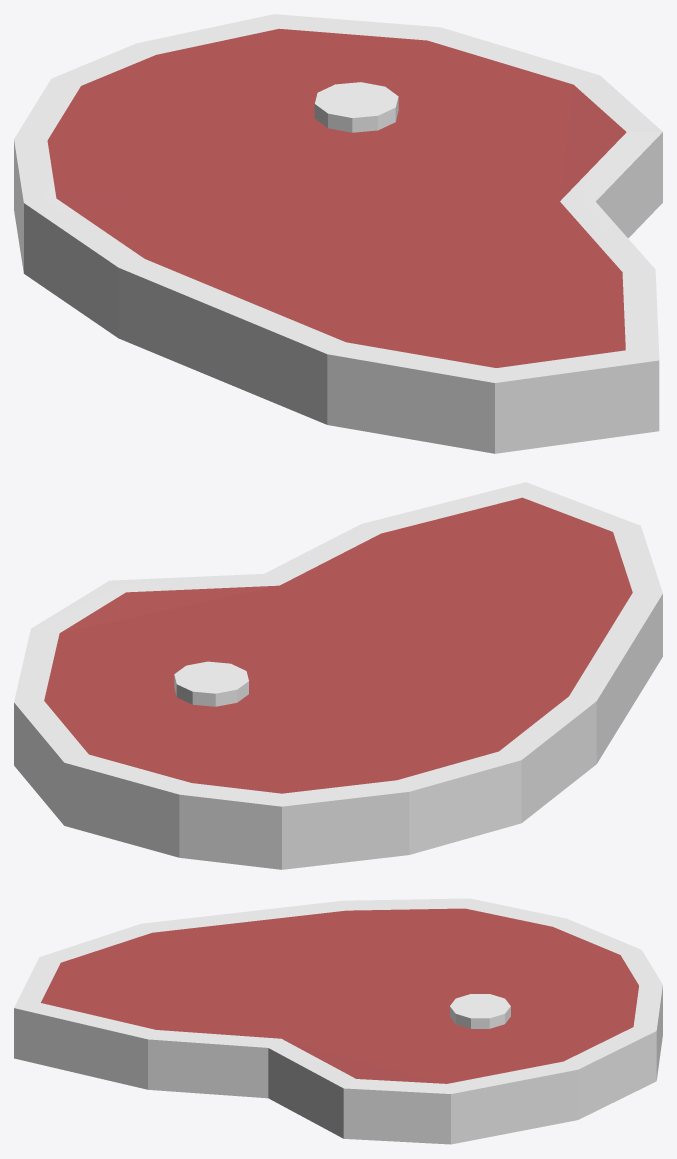
File: Steak.fbx
3 views of the same model, one above another, from view 1: azimuth 30°, elevation 25°; view 2: azimuth 150°, elevation 25°; view 3: azimuth 270°, elevation 25° (orthographic). The views are drawn at different scales.
Parts seen in each view (by area): view 1: Steak; view 2: Steak; view 3: Steak.
Boxes of the visible parts, x1=… form: Steak: x1=14, y1=14, x2=662, y2=453; Steak: x1=14, y1=482, x2=662, y2=869; Steak: x1=14, y1=898, x2=662, y2=1144.
Bounding box in the file's own units: 0.3137 × 0.054 × 0.4397.
